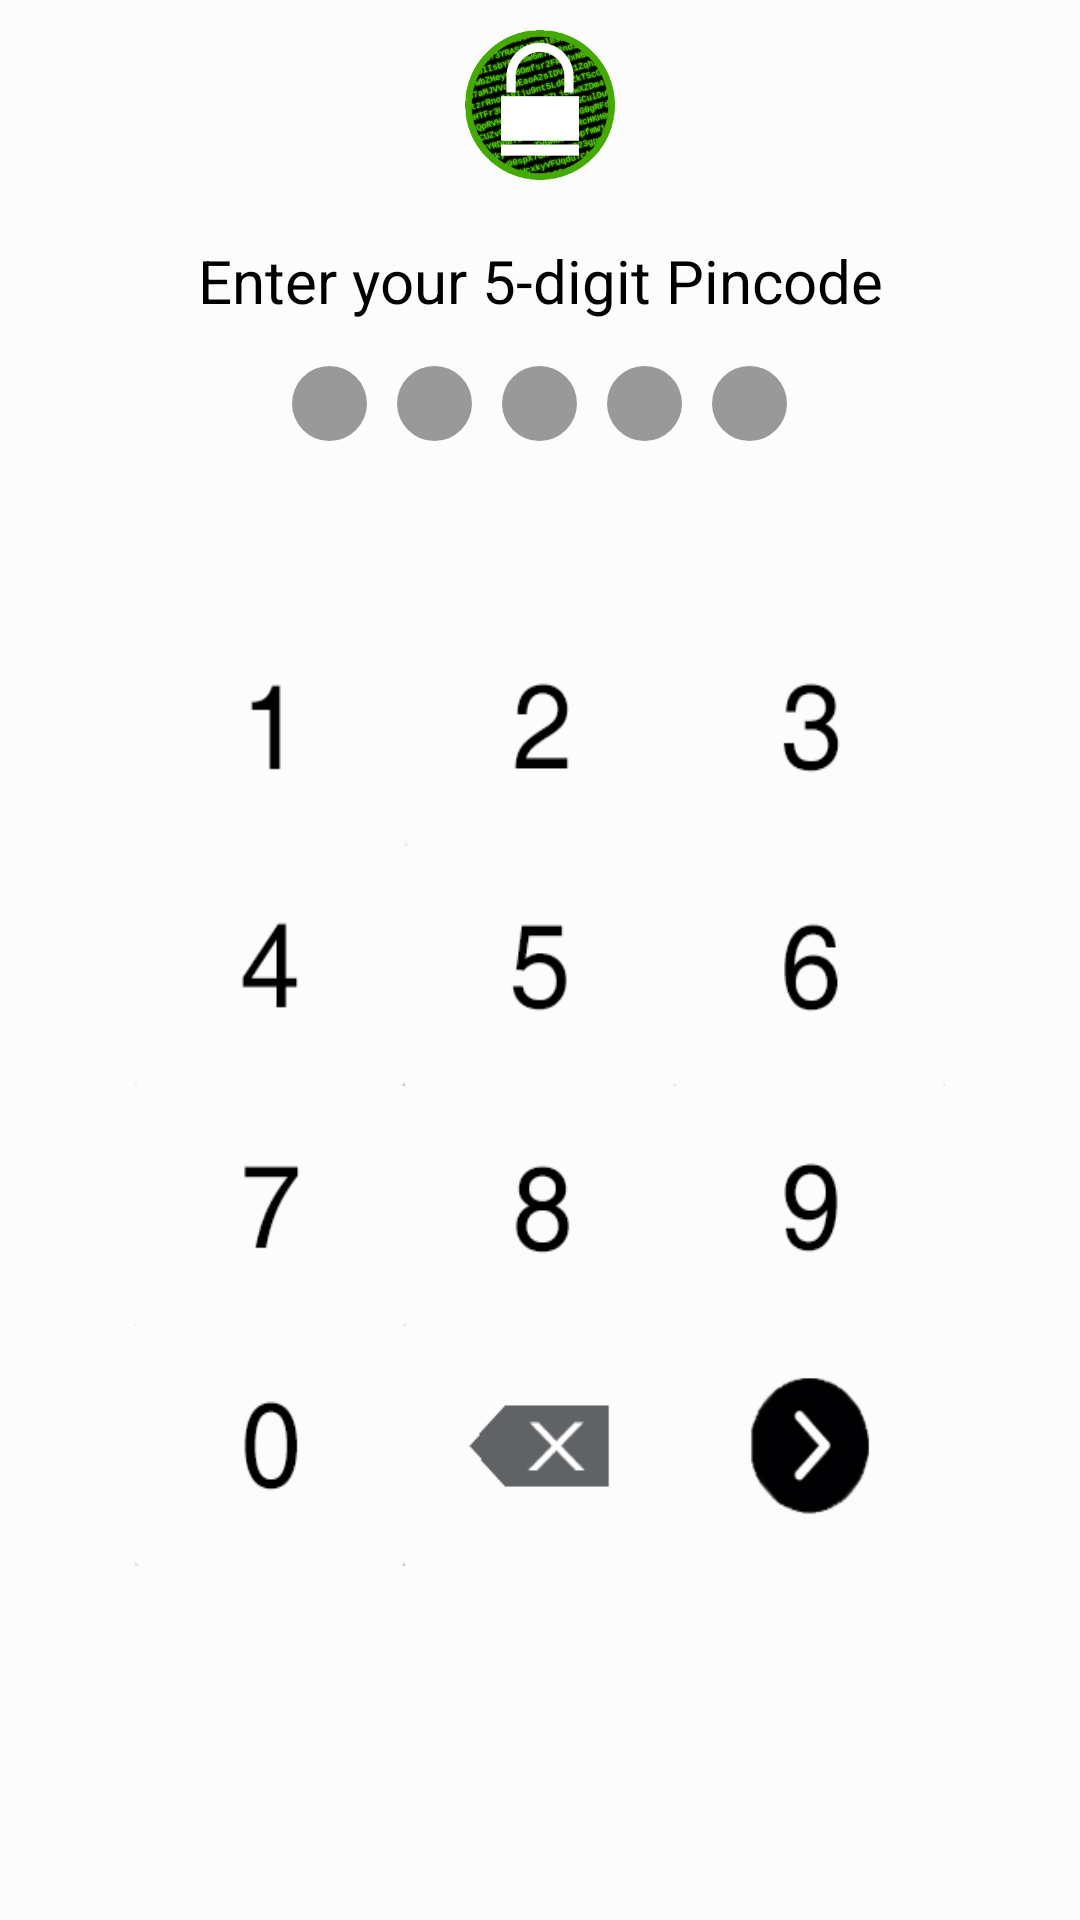

Named icons in this screenshot (1080px x 1920px) and their centers, point (x, y):
delete: point (539, 1446)
locker: point (540, 105)
